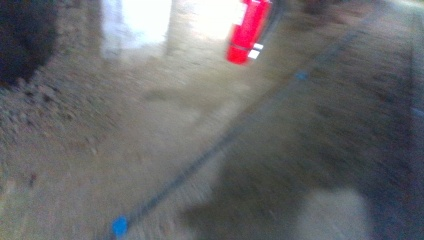fire_extinguisher: (224, 1, 267, 65)
